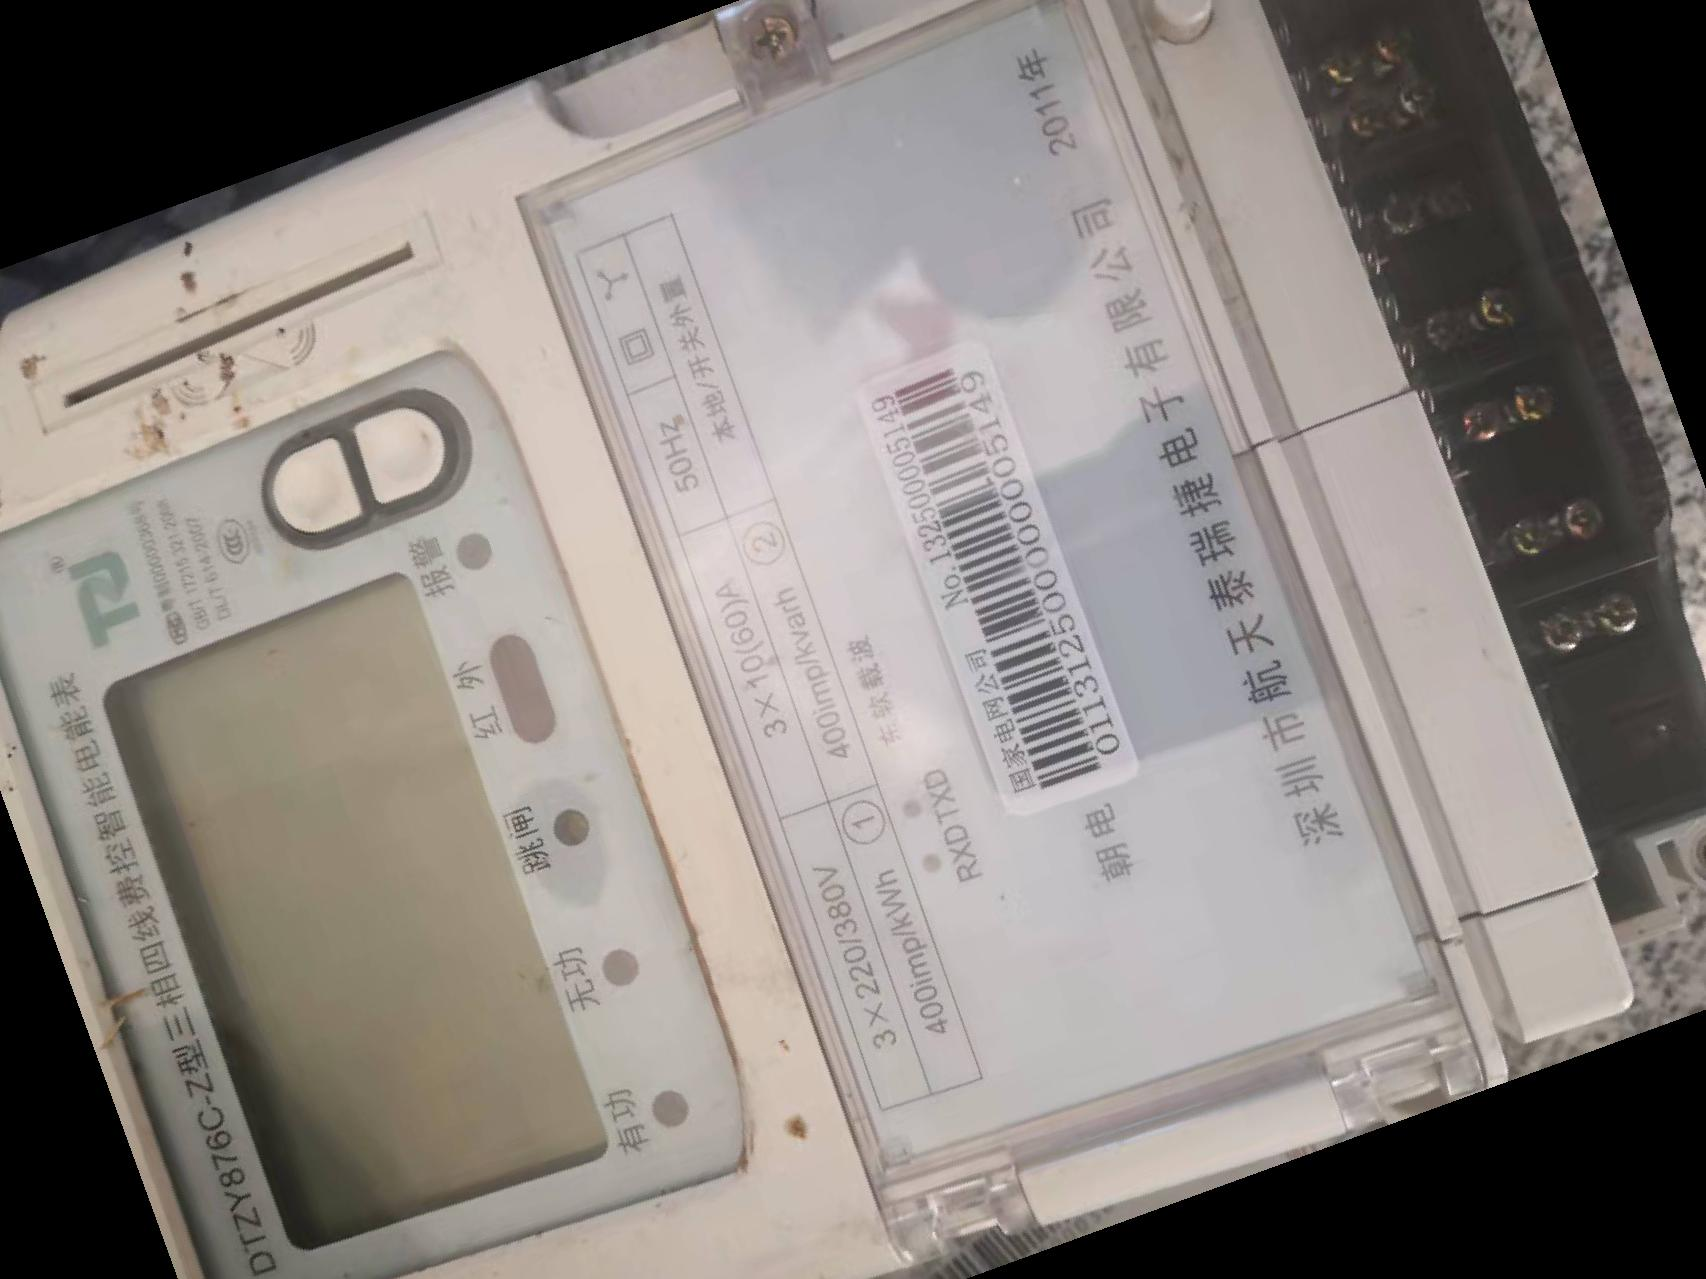digital: (1, 3, 1511, 1279)
